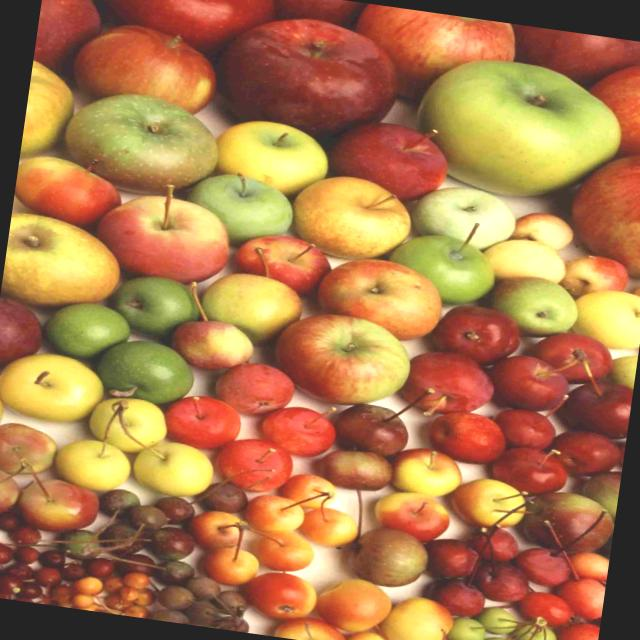apple: (410, 48, 633, 212), (223, 13, 398, 142), (84, 188, 238, 287), (273, 308, 423, 409)
